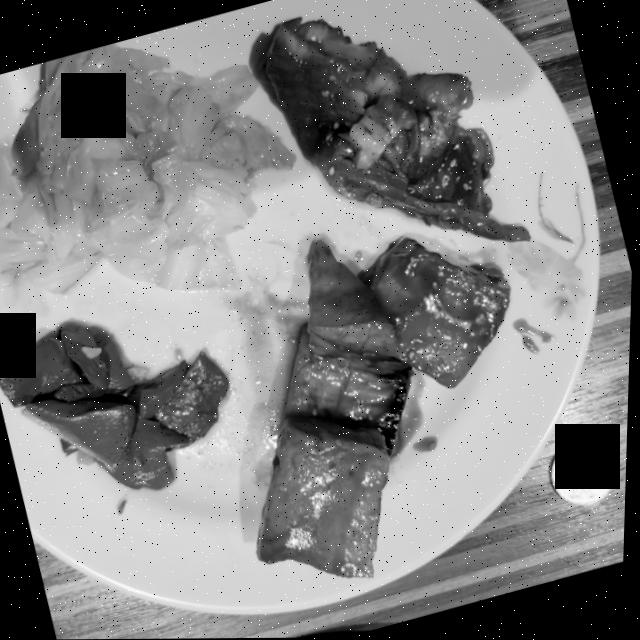Kabayaki sea bream fillet: (264, 19, 530, 243)
cabbage: (0, 43, 295, 292)
coin: (552, 440, 618, 506)
creamy tofu: (260, 238, 511, 577)
pig blood curd: (0, 323, 231, 490)
